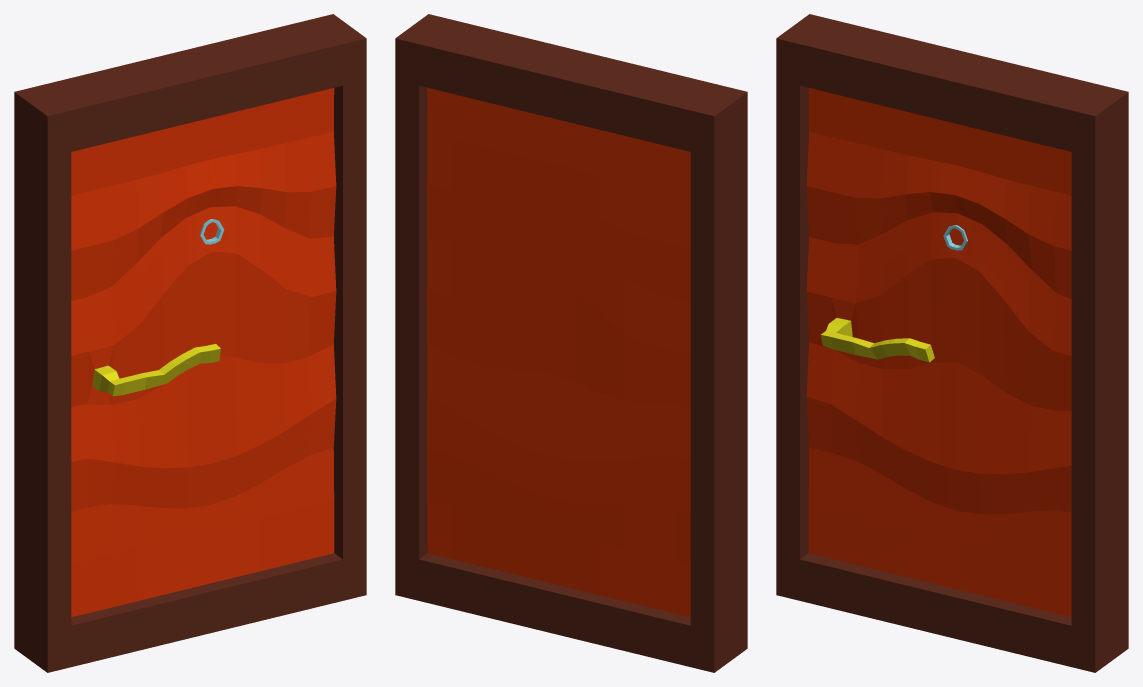
The model's file is DoorAugments.fbx.
3 renders of one model, left to right at view 1: azimuth 30°, elevation 25°; view 2: azimuth 150°, elevation 25°; view 3: azimuth 330°, elevation 25°, orthographic.
Parts seen in each view (by area): view 1: Door, DoorFrame, DoorKnob; view 2: Door, DoorFrame; view 3: Door, DoorFrame, DoorKnob.
Part boxes in pixels (x1,y1,x2,y2): Door: (71,88,336,617); DoorFrame: (14,14,366,672); DoorKnob: (92,344,220,396); Door: (426,88,690,617); DoorFrame: (395,14,747,672); Door: (806,88,1071,617); DoorFrame: (776,14,1128,672); DoorKnob: (820,318,934,362).
Bounding box in the file's own units: 141 × 235 × 34.83.
